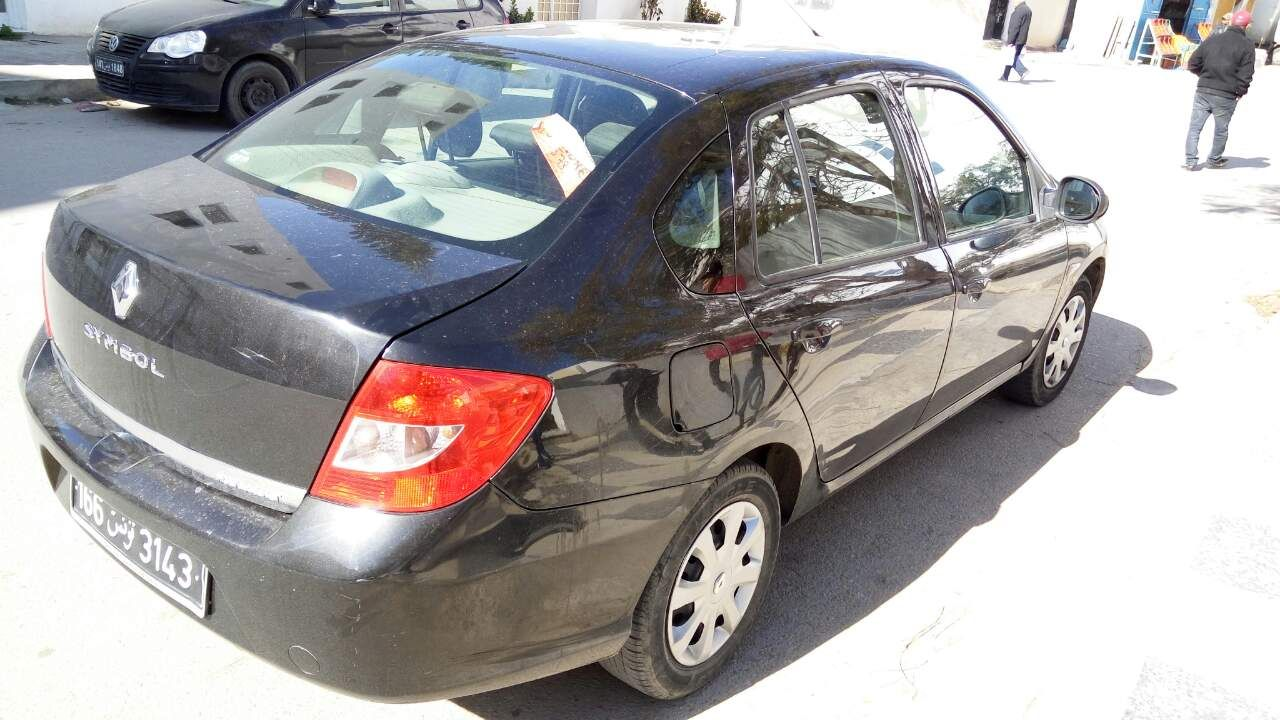LP: (70, 463, 206, 617)
